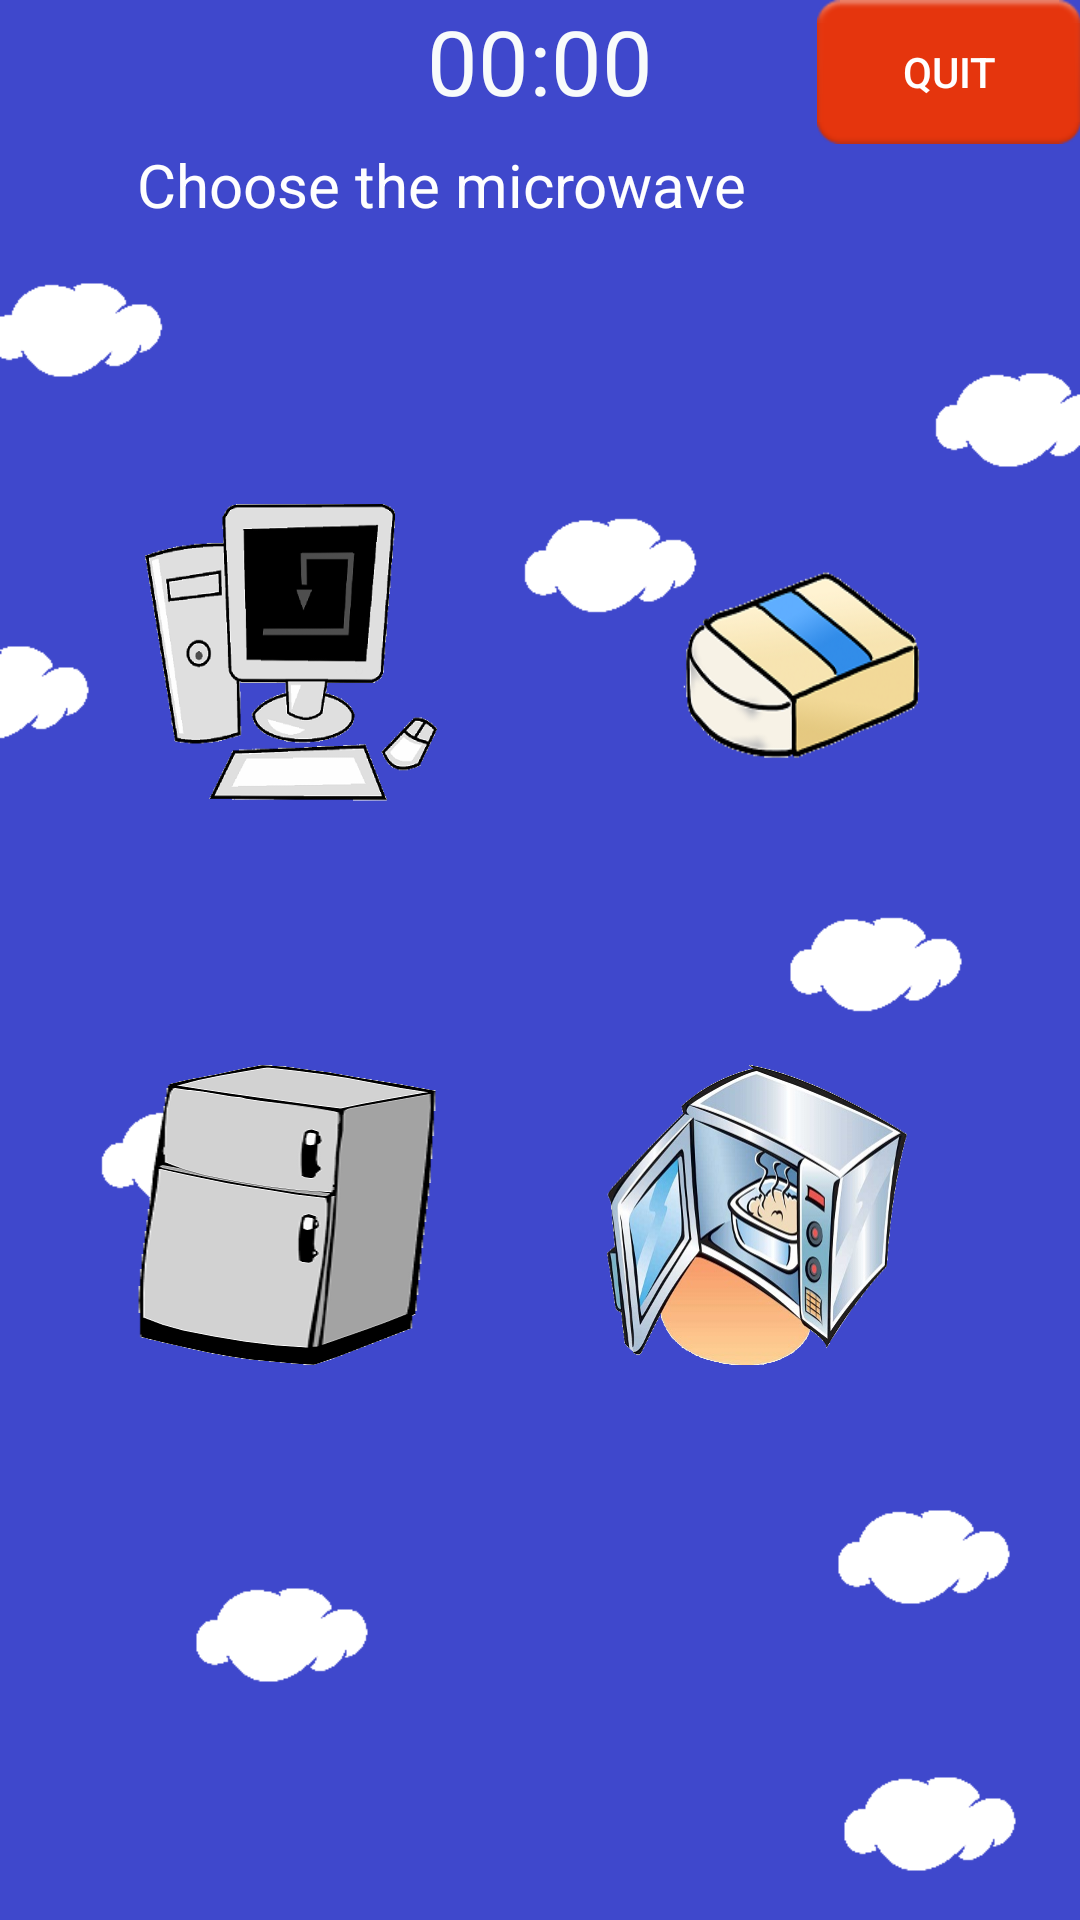

Icon bounding boxes for this 1080 x 1920 phone screenshot, format (x1, y1, x2, y2):
computer: (145, 504, 437, 801)
eraser: (683, 572, 919, 758)
microwaves: (607, 1065, 907, 1365)
refrigerator: (137, 1065, 436, 1365)
